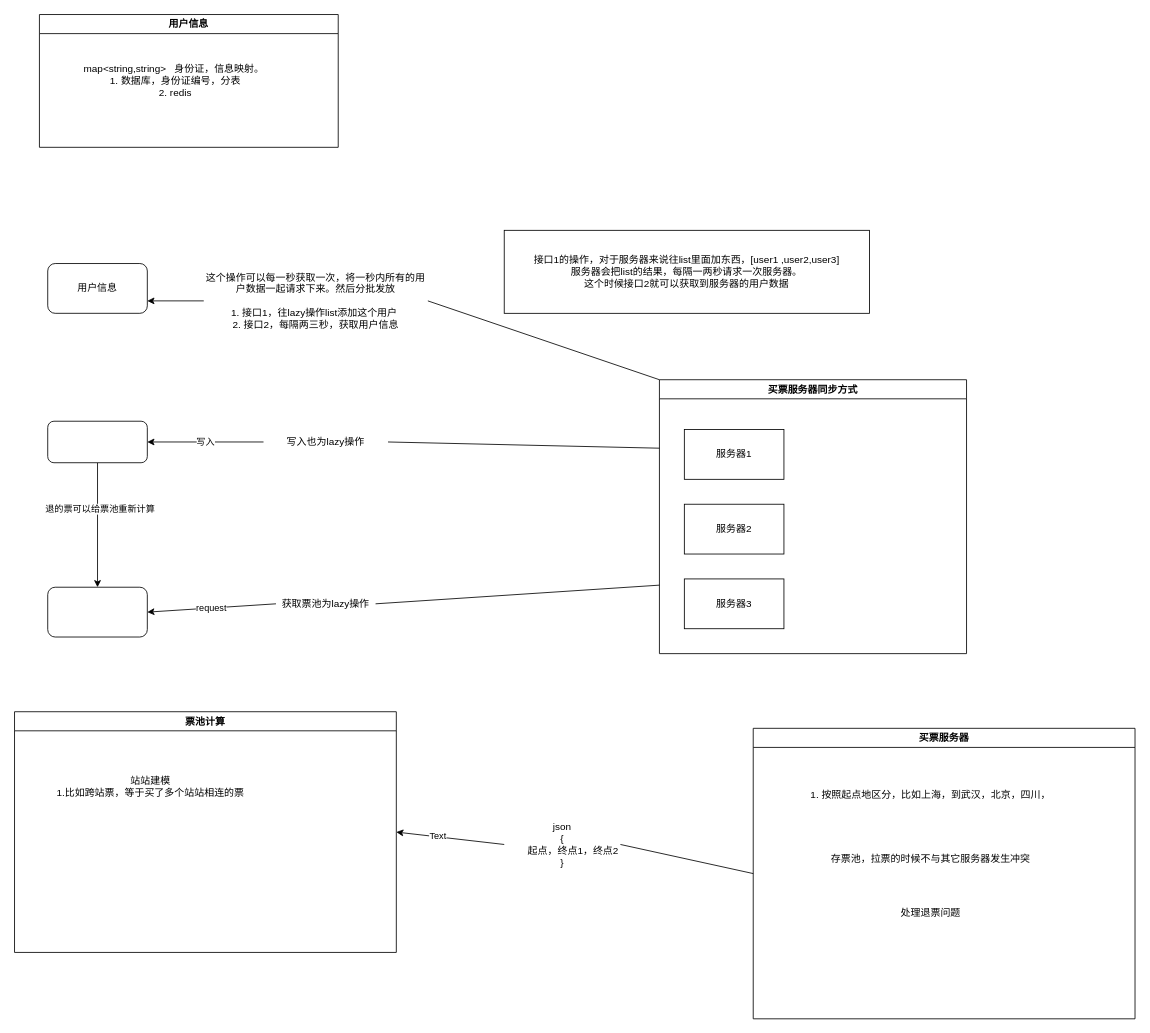
Some shapes in this 1150 by 1033 pixel diagram are drawn without their labels. Each missing label, with the centre of its shape:
"买票信息数据库" belongs at (x=97, y=441).
"票池" belongs at (x=97, y=611).
